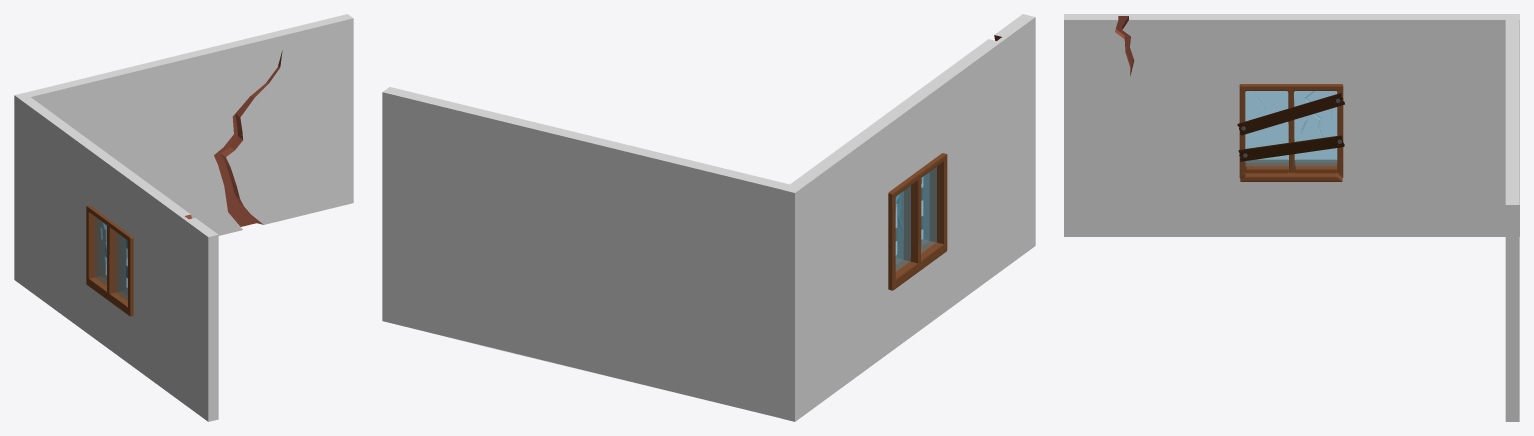
Rendered from walls_tier1.fbx.
3 renders of one model, left to right at view 1: azimuth 30°, elevation 25°; view 2: azimuth 150°, elevation 25°; view 3: azimuth 270°, elevation 25°, orthographic. The views are drawn at different scales.
Parts seen in each view (by area): view 1: Cube.007, Cube, Cube.002, Cube.003; view 2: Cube.007, Cube, Cube.002, Cube.003; view 3: Cube, Cube.007, Cube.003, Cube.002, Cube.005, Cube.004.
Part boxes in pixels (left/top/right/bottom): Cube.007: left=24, top=14, right=353, bottom=260; Cube: left=14, top=92, right=218, bottom=421; Cube.002: left=86, top=205, right=133, bottom=316; Cube.003: left=95, top=217, right=127, bottom=300; Cube.007: left=382, top=87, right=789, bottom=418; Cube: left=782, top=14, right=1035, bottom=421; Cube.002: left=888, top=153, right=947, bottom=290; Cube.003: left=895, top=167, right=936, bottom=271; Cube: left=1064, top=14, right=1519, bottom=236; Cube.007: left=1505, top=19, right=1519, bottom=421; Cube.003: left=1245, top=91, right=1337, bottom=166; Cube.002: left=1239, top=84, right=1343, bottom=181; Cube.005: left=1237, top=93, right=1344, bottom=135; Cube.004: left=1238, top=135, right=1344, bottom=161.
Bounding box in the file's own units: 659 × 348 × 658.
